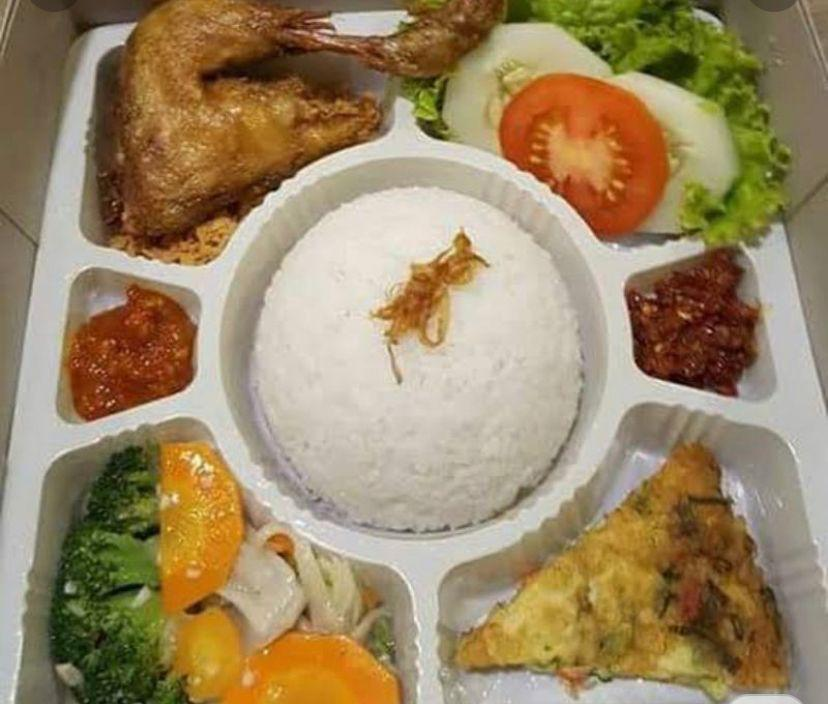buah_sayur_lainnya: (556, 17, 698, 210), (642, 277, 749, 359), (88, 319, 181, 386)
buah_sayur_vitA: (90, 537, 266, 704)
daging: (138, 87, 303, 178)
makanan_berpati: (306, 234, 536, 481)
telur: (578, 555, 754, 653)
